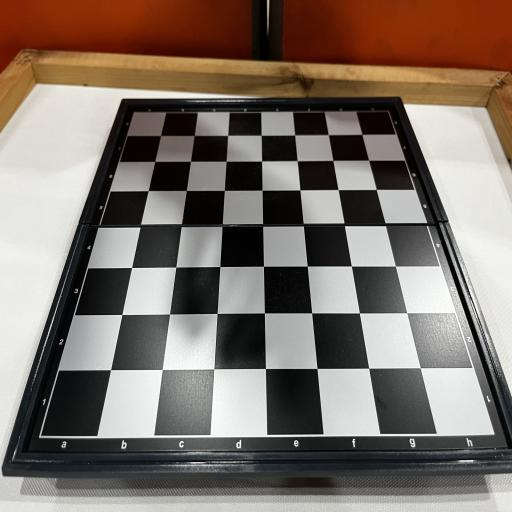Board: (1, 96, 512, 477), (3, 97, 512, 463)
